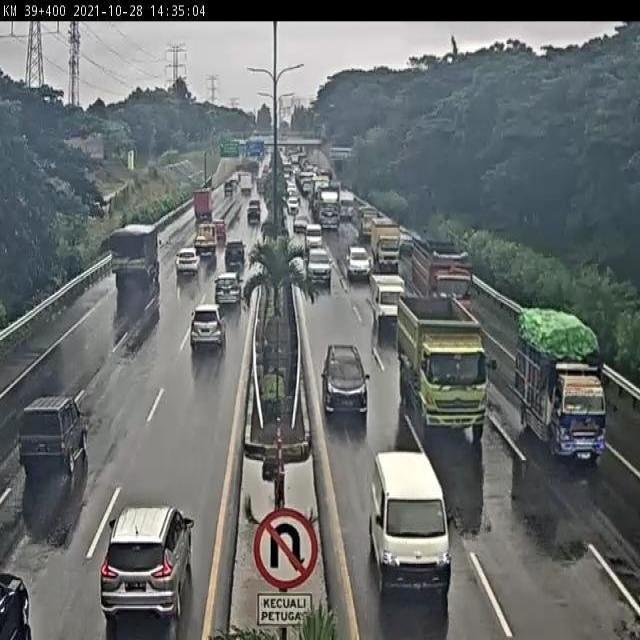Car: (100, 507, 194, 622), (17, 396, 88, 480), (322, 343, 369, 419), (0, 573, 33, 638), (190, 304, 226, 352), (306, 248, 332, 286), (214, 273, 242, 307), (346, 246, 372, 281), (175, 248, 200, 276), (225, 240, 246, 270), (305, 222, 323, 248), (247, 199, 261, 224), (294, 217, 310, 236), (286, 196, 300, 215)
Truck: (516, 309, 607, 461), (397, 293, 490, 434), (110, 225, 160, 288), (371, 216, 402, 273)
Van: (368, 451, 450, 600)
